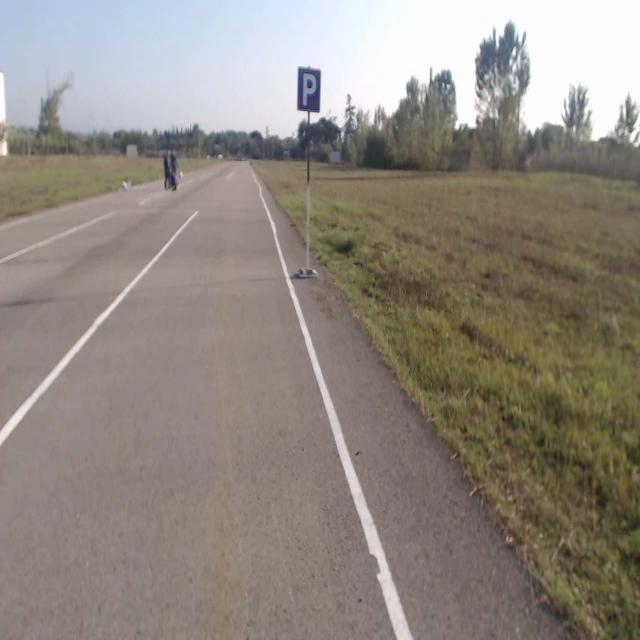park: (298, 68, 320, 112)
